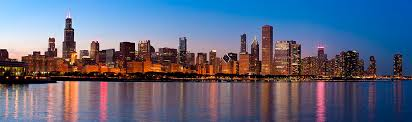willis: (60, 6, 79, 58)
